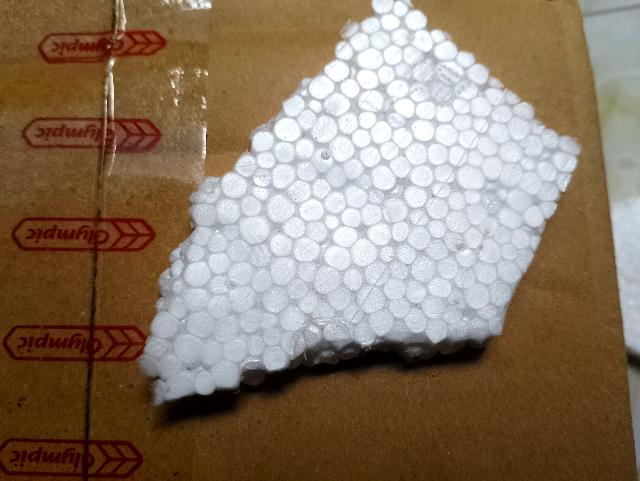cocksheet: (186, 21, 568, 348)
